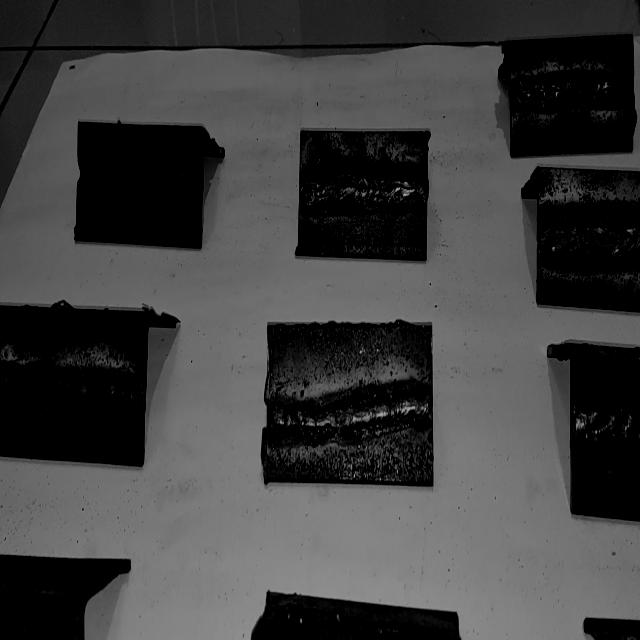Bad Weld: (2, 371, 144, 403), (513, 78, 632, 109), (576, 404, 640, 445)
Defect: (514, 81, 626, 112), (574, 406, 640, 444), (18, 366, 56, 404)
Good Weld: (268, 391, 431, 439), (78, 160, 203, 200), (298, 171, 428, 206), (540, 221, 640, 254)
